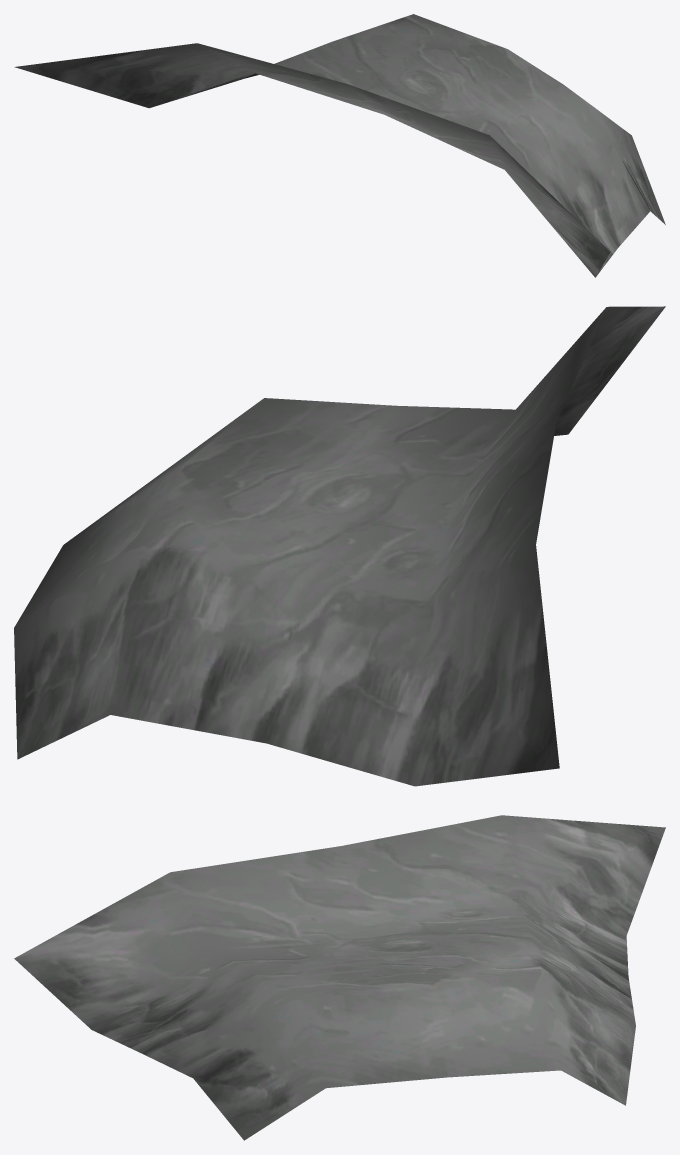
File: SWORDLIGHT20_PS-AREA03_128.fbx
3 views of the same model, one above another, from view 1: azimuth 30°, elevation 25°; view 2: azimuth 150°, elevation 25°; view 3: azimuth 270°, elevation 25° (orthographic). The views are drawn at different scales.
Parts seen in each view (by area): view 1: SWORDLIGHT20_PS-AREA03_128; view 2: SWORDLIGHT20_PS-AREA03_128; view 3: SWORDLIGHT20_PS-AREA03_128.
Boxes of the visible parts, bbox=[...] form: SWORDLIGHT20_PS-AREA03_128: bbox=[14, 14, 665, 277]; SWORDLIGHT20_PS-AREA03_128: bbox=[14, 306, 665, 786]; SWORDLIGHT20_PS-AREA03_128: bbox=[14, 815, 665, 1140].
Size of the model in its own units: 44841 by 16426 by 58242.
Materials: 1 (1 with a texture image).
